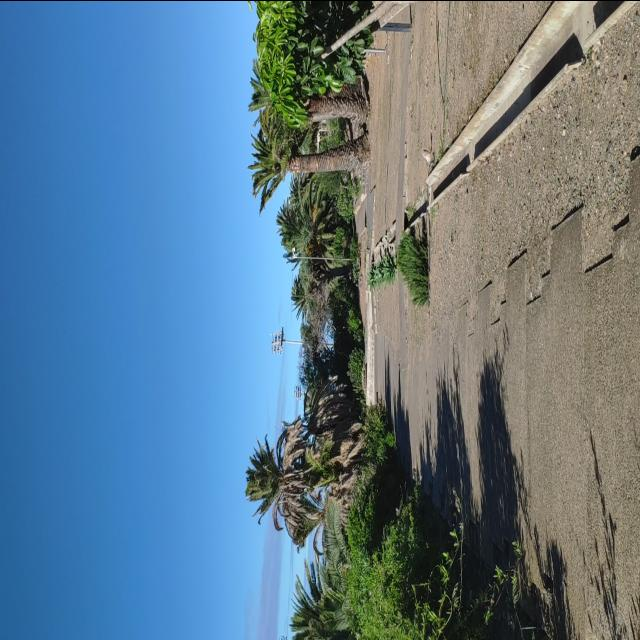Palm-Trees: (244, 432, 354, 528), (251, 120, 367, 204)
